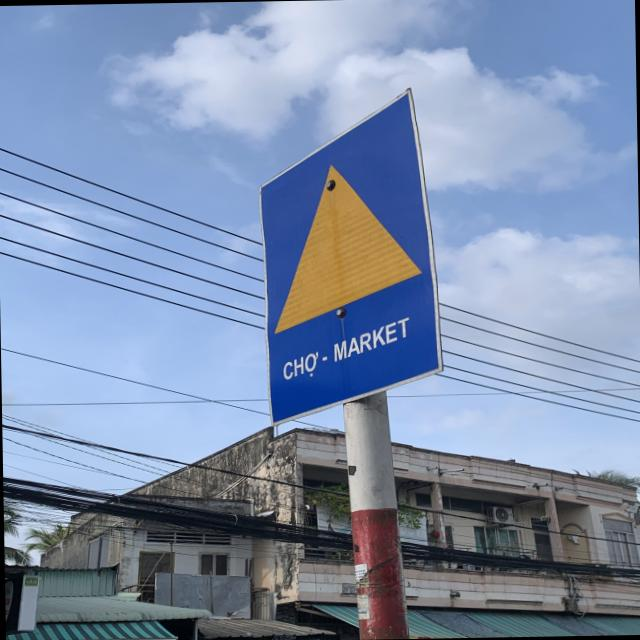Cho_Quay_Xe: (257, 87, 447, 422)
